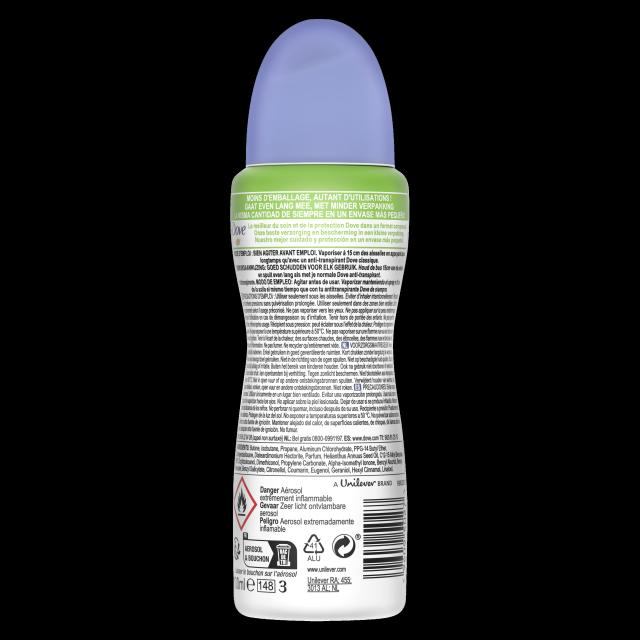GHS_Symbol_FLAME: (232, 476, 258, 531)
